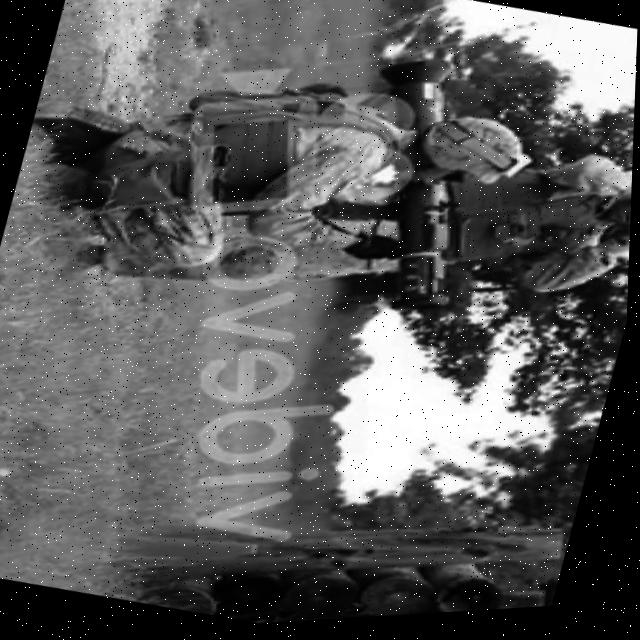rocket: (319, 46, 517, 335)
